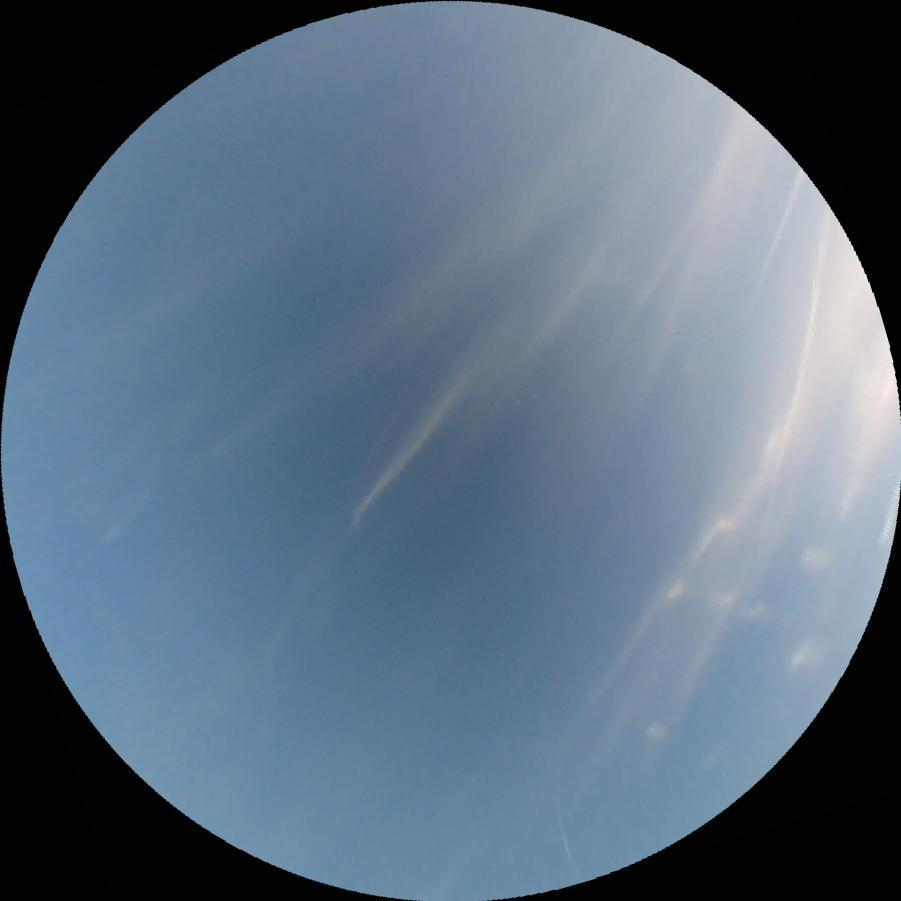contrail old: (759, 166, 806, 275)
contrail young: (550, 801, 578, 882)
